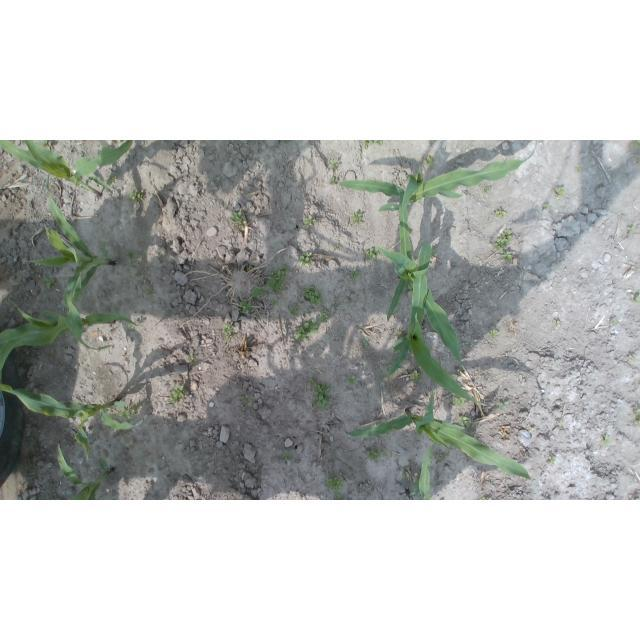Maize: (344, 385, 541, 500), (381, 238, 487, 407), (374, 185, 462, 379), (26, 172, 119, 352), (338, 141, 539, 212), (0, 384, 148, 465), (0, 297, 138, 383), (0, 140, 134, 196), (57, 442, 116, 500), (405, 441, 436, 500)
Weeds: (309, 378, 331, 411), (267, 264, 289, 292), (296, 319, 319, 342), (301, 283, 324, 305), (493, 229, 514, 251), (167, 385, 186, 406), (120, 403, 141, 420), (325, 476, 345, 493), (252, 281, 269, 298), (230, 211, 245, 230), (238, 298, 255, 314), (366, 446, 380, 463), (221, 325, 234, 342), (364, 248, 381, 261), (363, 140, 384, 150), (299, 252, 313, 267), (128, 190, 144, 203), (303, 216, 318, 229), (350, 212, 364, 225), (43, 278, 56, 291), (142, 283, 154, 297), (124, 249, 139, 260), (458, 416, 471, 428), (318, 310, 330, 323), (106, 173, 120, 184), (39, 141, 52, 152), (452, 396, 465, 407), (349, 268, 360, 280), (411, 370, 421, 383), (494, 208, 507, 218), (424, 155, 434, 168), (502, 251, 513, 262), (241, 395, 253, 405), (329, 158, 339, 170), (633, 409, 640, 426), (282, 450, 292, 461), (555, 187, 566, 197), (289, 306, 300, 316), (268, 298, 280, 307), (602, 434, 611, 446), (489, 330, 500, 339), (333, 493, 347, 500), (499, 401, 509, 410), (254, 310, 264, 319), (348, 376, 357, 386), (626, 226, 636, 235), (395, 329, 406, 337), (380, 448, 389, 457), (631, 140, 640, 149), (330, 176, 339, 185), (127, 322, 137, 330), (547, 457, 556, 464), (431, 248, 438, 257), (188, 354, 195, 362), (364, 338, 370, 347), (575, 164, 581, 173), (464, 342, 474, 347), (437, 454, 444, 461), (629, 355, 636, 362), (485, 186, 492, 193), (610, 319, 618, 325), (553, 319, 561, 325), (635, 294, 640, 303), (334, 245, 340, 252), (479, 497, 491, 500), (403, 472, 408, 479), (558, 423, 563, 430), (542, 204, 550, 208), (247, 266, 253, 271), (121, 433, 128, 437), (430, 140, 436, 144), (283, 141, 291, 144), (350, 300, 354, 304), (638, 159, 640, 164)
